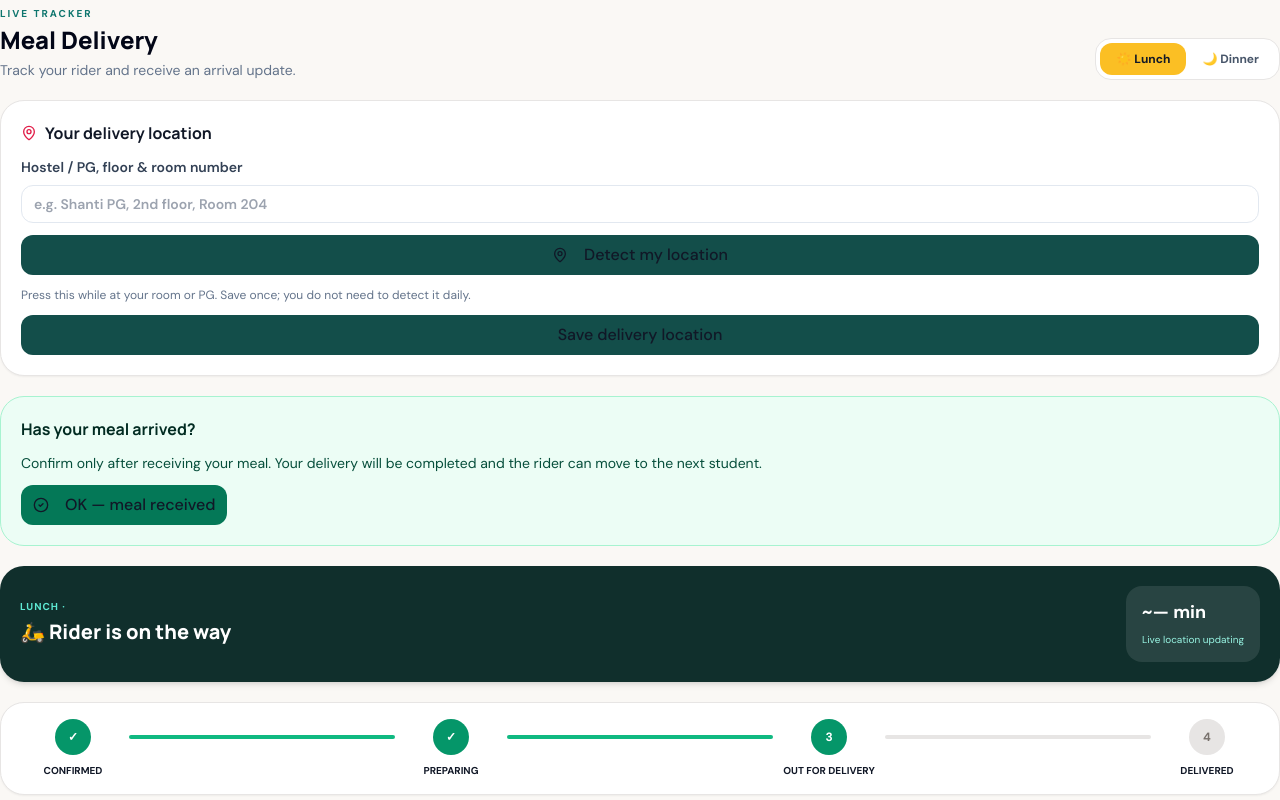
student confirms own receipt and receives completed status
Click the button "OK — meal received" at (124,505), box [21,485,228,525]
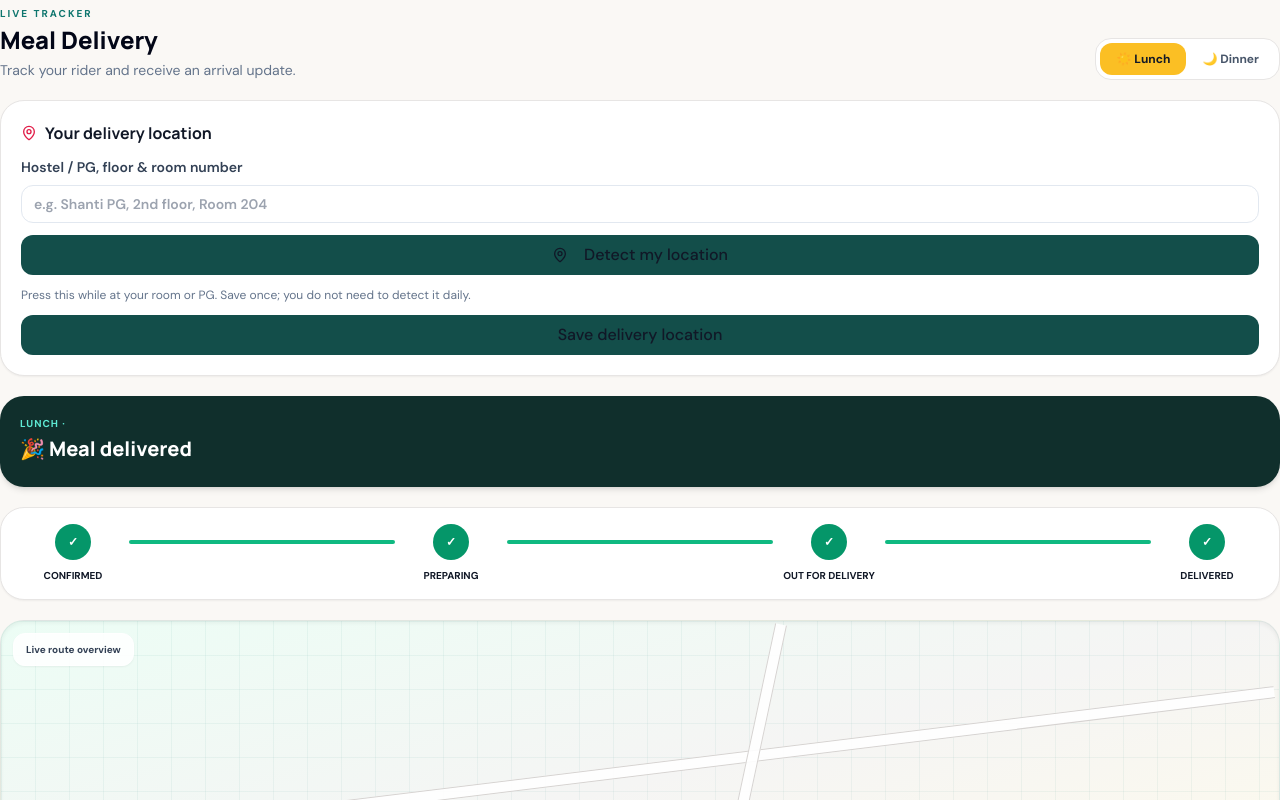
Check: the text "Meal delivered" is shown, box [20,435,192,462]
Check: the text "OK — meal received" is gone
